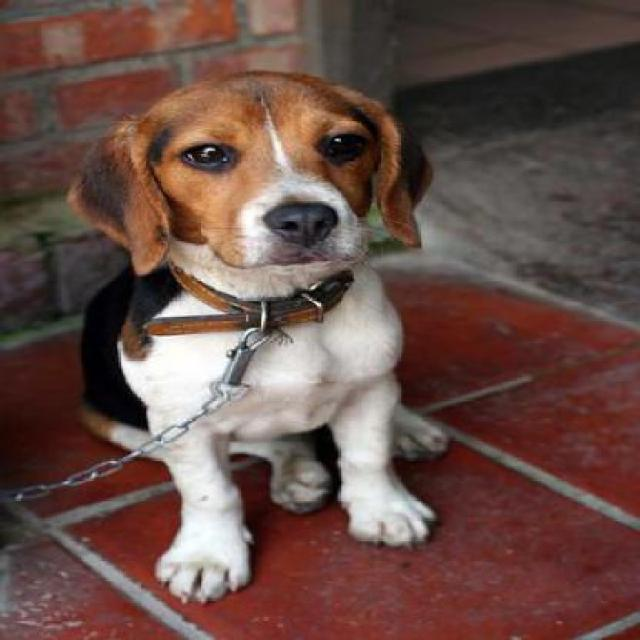Dog: (71, 69, 466, 606)
